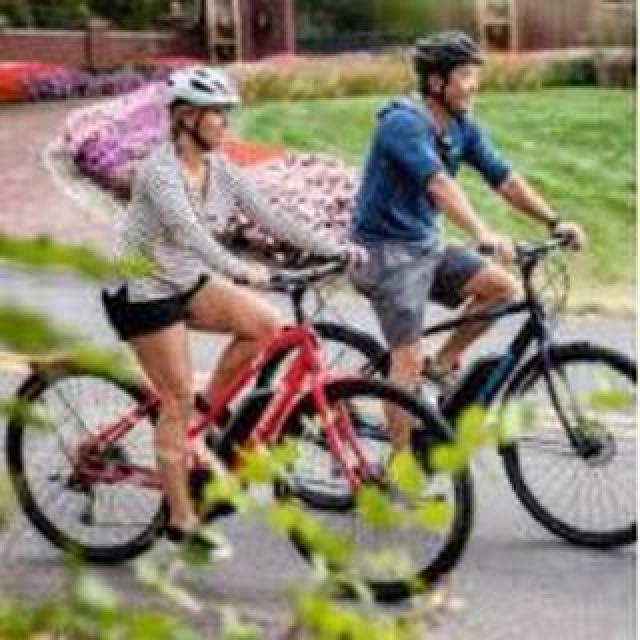MC-Bike: (88, 62, 378, 544), (346, 26, 570, 446)
Person: (246, 245, 640, 615), (0, 316, 472, 604)
